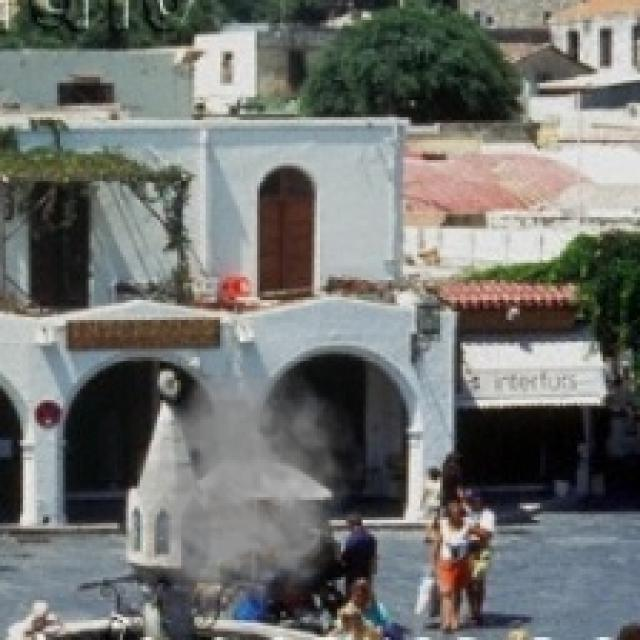smoke: (134, 340, 369, 620)
